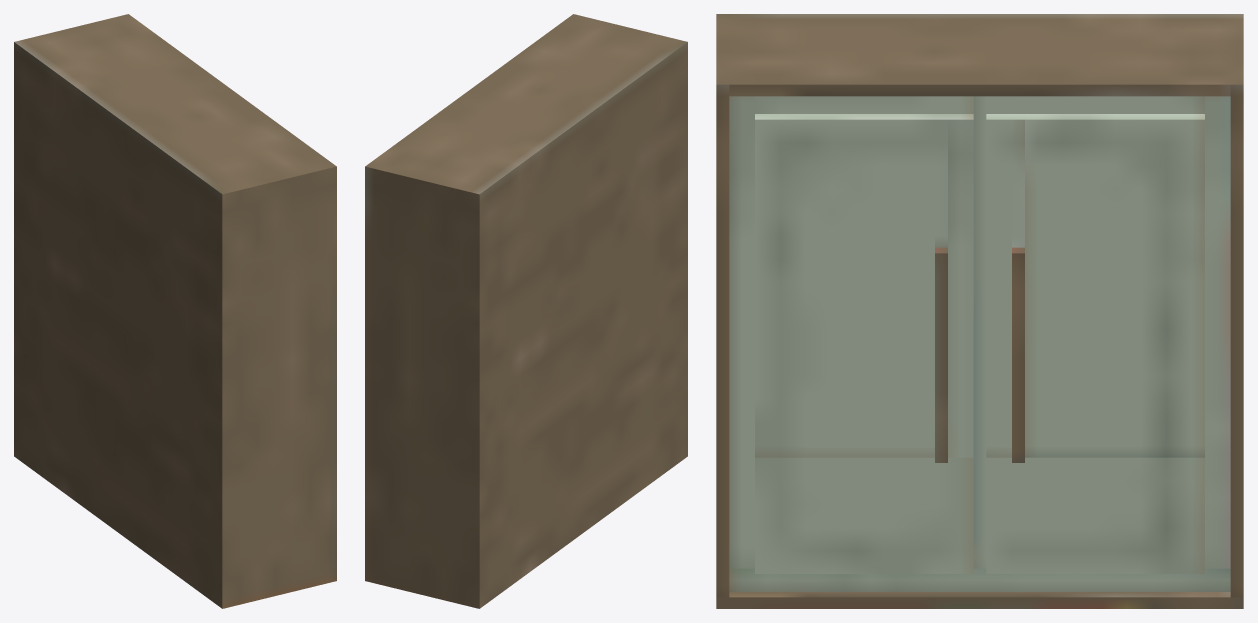
The model's file is DresserDarkGrey_00.obj.
3 views of the same model, side by side, from view 1: azimuth 30°, elevation 25°; view 2: azimuth 150°, elevation 25°; view 3: azimuth 270°, elevation 25° (orthographic). The views are drawn at different scales.
Parts seen in each view (by area): view 1: DresserDarkGrey_00; view 2: DresserDarkGrey_00; view 3: DresserDarkGrey_00.
Part boxes in pixels (box(x1,y1,x2,y2)): DresserDarkGrey_00: box(14, 14, 336, 608); DresserDarkGrey_00: box(365, 14, 687, 608); DresserDarkGrey_00: box(716, 14, 1243, 608).
Size of the model in its own units: 0.7 by 2.25 by 2.05.
